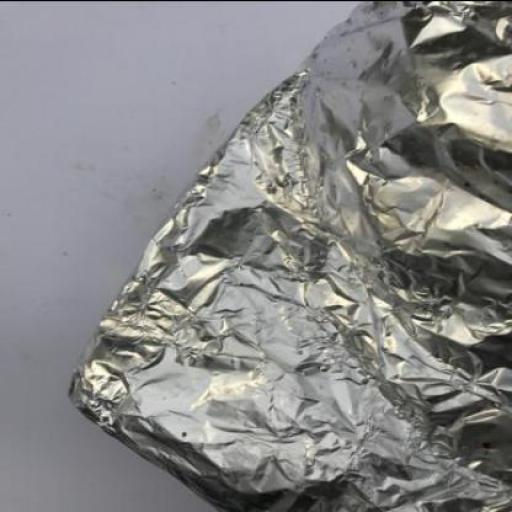metal: (66, 1, 511, 511)
